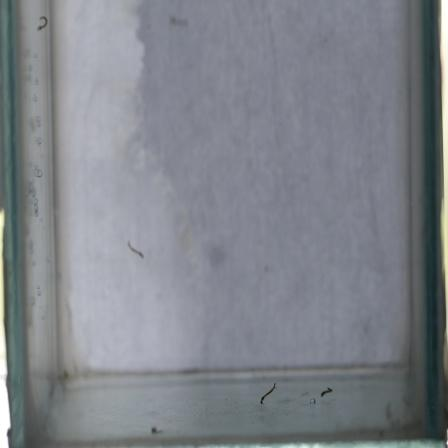Jentik-Nyamuk: (256, 378, 281, 407), (318, 383, 339, 401)
